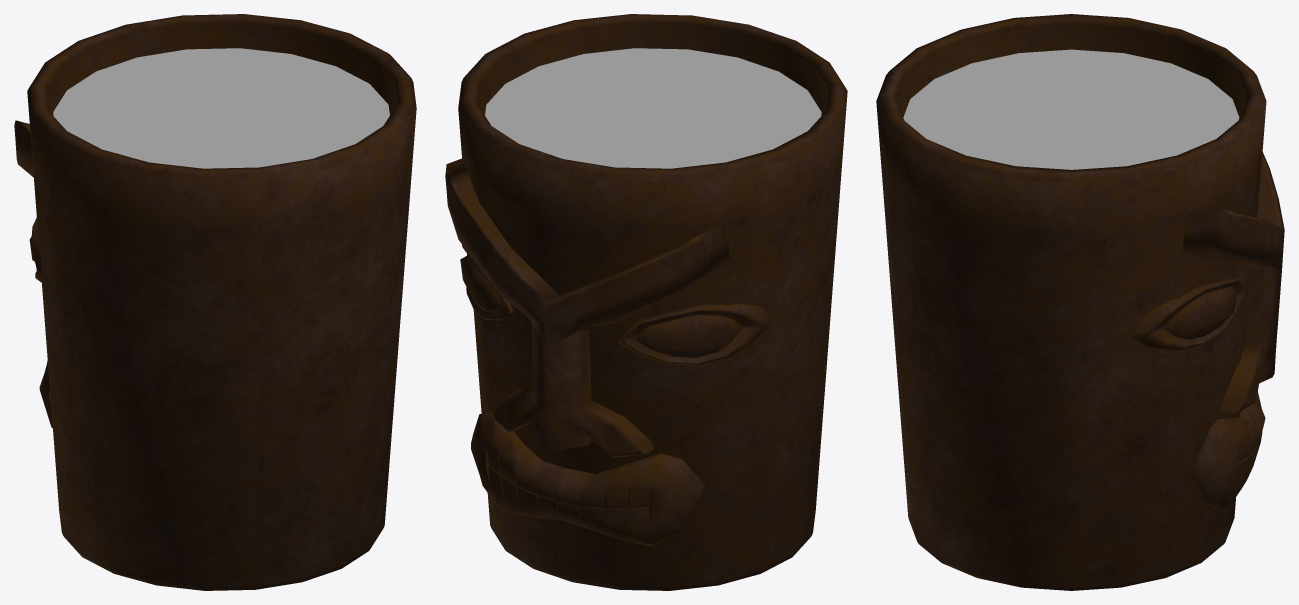
File: Tikki mug.fbx
The picture shows the model from 3 angles, left to right: view 1: azimuth 30°, elevation 25°; view 2: azimuth 150°, elevation 25°; view 3: azimuth 270°, elevation 25°; orthographic projection.
Visible parts, largest first — view 1: Tiki_Mug, Full_liquid1; view 2: Tiki_Mug, Full_liquid1; view 3: Tiki_Mug, Full_liquid1.
Boxes of the visible parts, x1,y1,x2,y2 form: Tiki_Mug: (14, 14, 416, 590); Full_liquid1: (53, 48, 389, 168); Tiki_Mug: (445, 14, 847, 590); Full_liquid1: (485, 48, 821, 168); Tiki_Mug: (876, 14, 1284, 590); Full_liquid1: (903, 49, 1239, 169).
Bounding box in the file's own units: 9.87 × 12 × 10.33.
